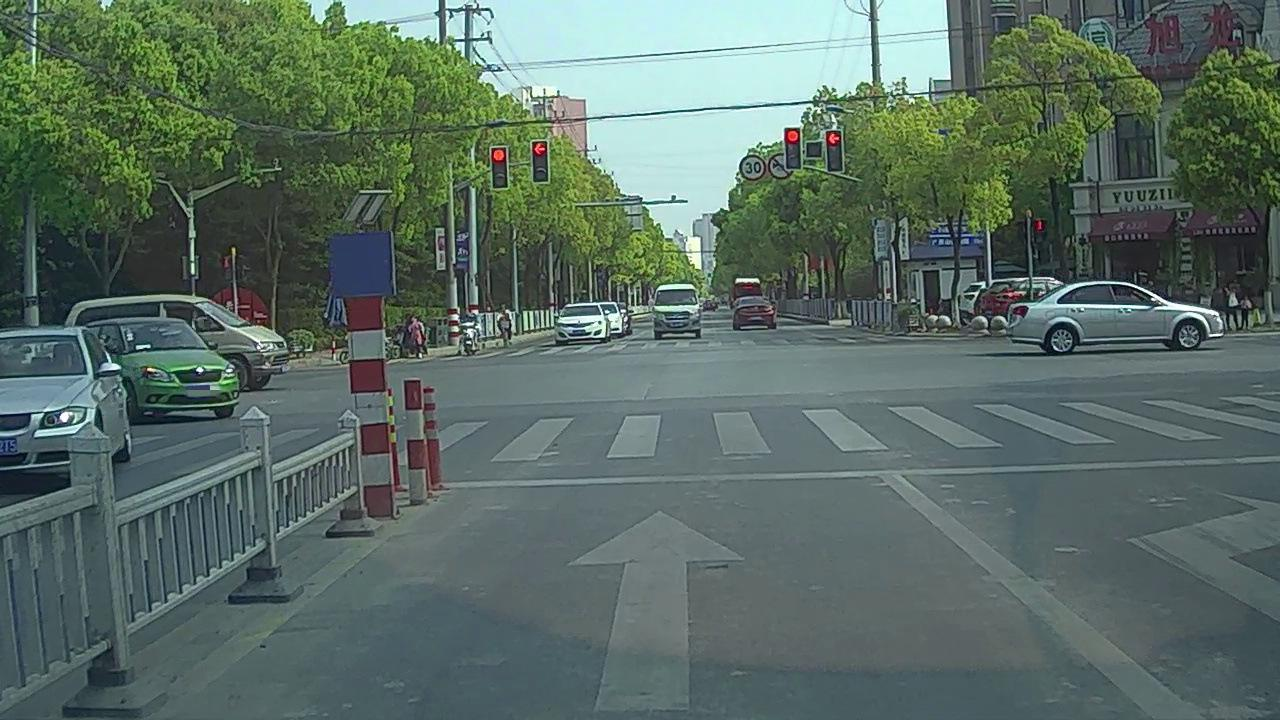traffic_light: (532, 140, 548, 183), (827, 131, 843, 172), (491, 148, 507, 187), (785, 127, 800, 168)
